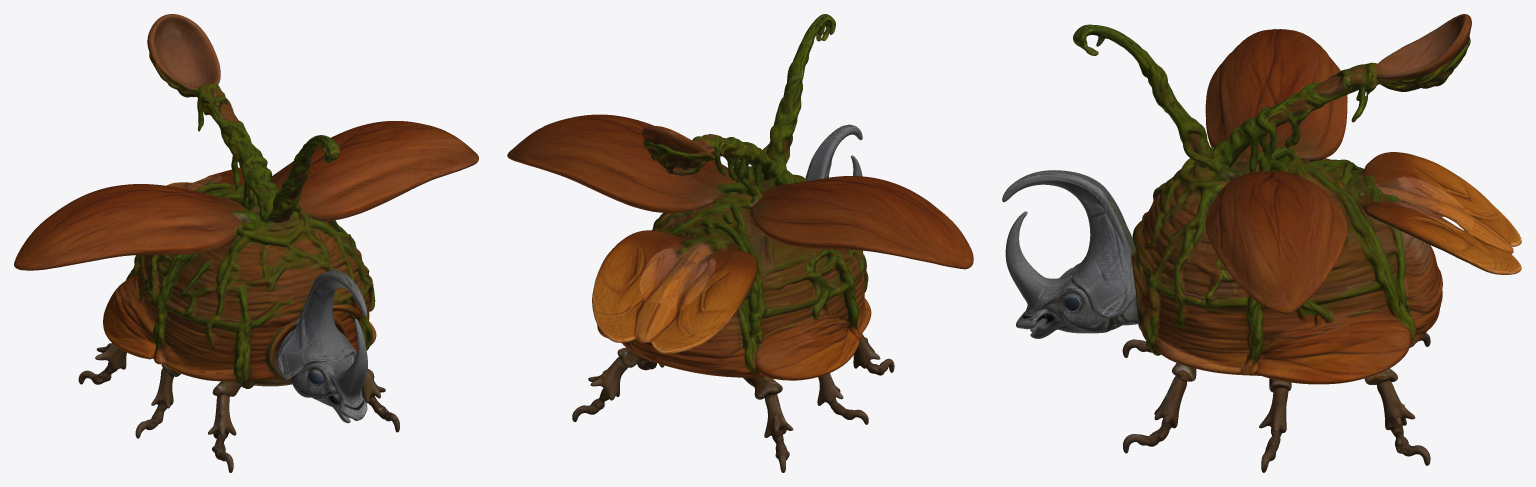
3 renders of one model, left to right at view 1: azimuth 30°, elevation 25°; view 2: azimuth 150°, elevation 25°; view 3: azimuth 270°, elevation 25°, orthographic. The views are drawn at different scales.
Parts seen in each view (by area): view 1: tripo_node_6dc1d2bb-4fa5-495d-85b6-4c3fe3779c31; view 2: tripo_node_6dc1d2bb-4fa5-495d-85b6-4c3fe3779c31; view 3: tripo_node_6dc1d2bb-4fa5-495d-85b6-4c3fe3779c31.
Part boxes in pixels (x1=…): tripo_node_6dc1d2bb-4fa5-495d-85b6-4c3fe3779c31: x1=14, y1=14, x2=478, y2=472; tripo_node_6dc1d2bb-4fa5-495d-85b6-4c3fe3779c31: x1=507, y1=14, x2=973, y2=472; tripo_node_6dc1d2bb-4fa5-495d-85b6-4c3fe3779c31: x1=1002, y1=14, x2=1521, y2=472.
Size of the model in its own units: 1 by 0.6887 by 0.8347.
Materials: 1 (1 with a texture image).
